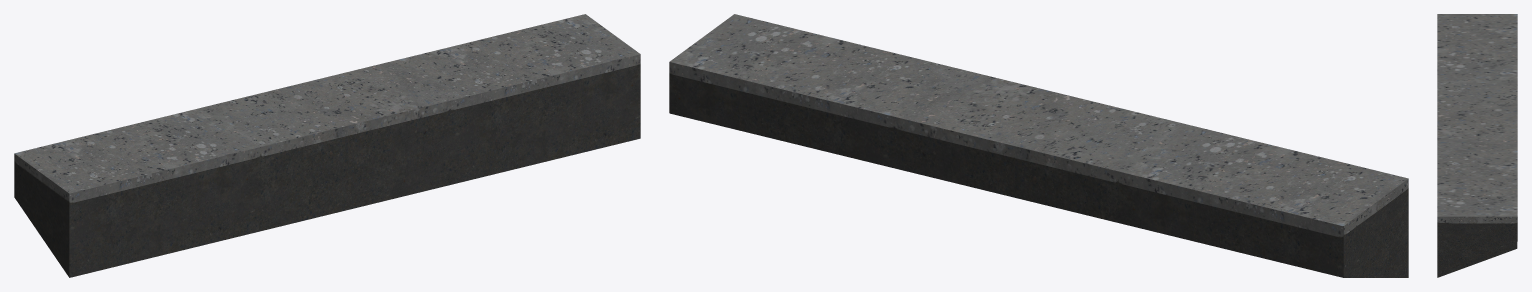
File: SM_StairsSingle.FBX
3 views of the same model, side by side, from view 1: azimuth 30°, elevation 25°; view 2: azimuth 150°, elevation 25°; view 3: azimuth 270°, elevation 25° (orthographic). The views are drawn at different scales.
Parts seen in each view (by area): view 1: SM_StairsSingle; view 2: SM_StairsSingle; view 3: SM_StairsSingle.
Part boxes in pixels (x1,y1,x2,y2): SM_StairsSingle: [14, 14, 640, 277]; SM_StairsSingle: [669, 14, 1408, 277]; SM_StairsSingle: [1437, 14, 1517, 277].
Size of the model in its own units: 400 by 66.98 by 56.44.
